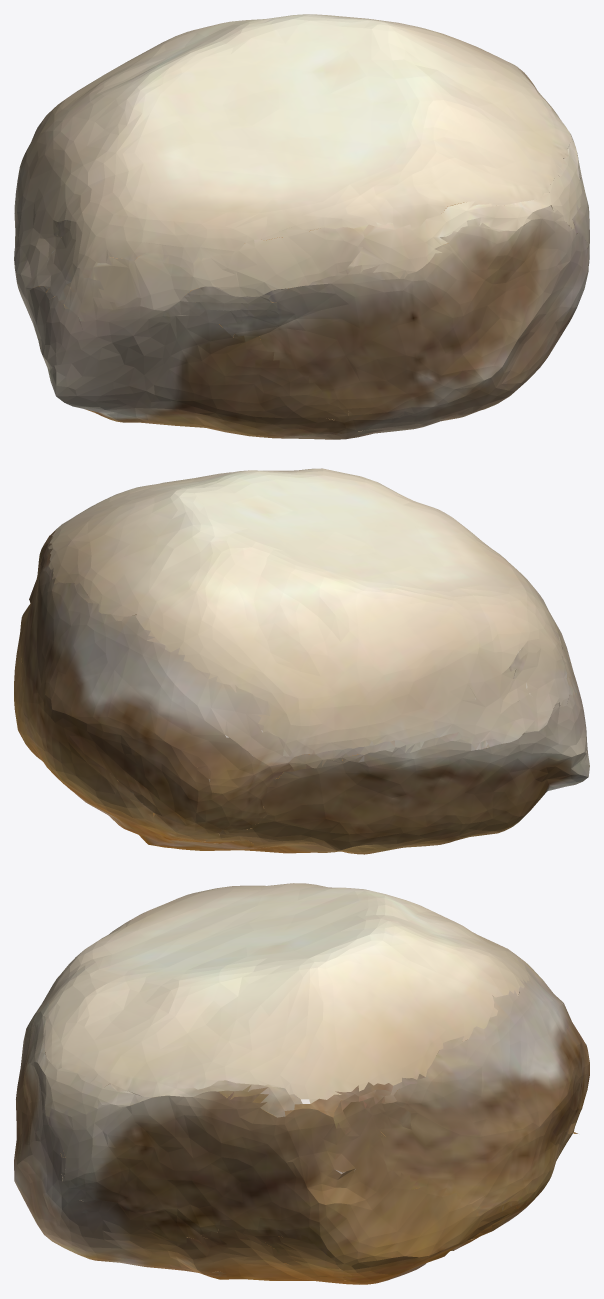
File: pfeffernusse.gltf
The picture shows the model from 3 angles, top to bottom: view 1: azimuth 30°, elevation 25°; view 2: azimuth 150°, elevation 25°; view 3: azimuth 270°, elevation 25°; orthographic projection. The views are drawn at different scales.
Parts seen in each view (by area): view 1: model_New Qlone_20221216_194734049; view 2: model_New Qlone_20221216_194734049; view 3: model_New Qlone_20221216_194734049.
Part boxes in pixels (x1,y1,x2,y2): model_New Qlone_20221216_194734049: [14, 14, 589, 439]; model_New Qlone_20221216_194734049: [14, 468, 589, 854]; model_New Qlone_20221216_194734049: [14, 883, 589, 1284].
Size of the model in its own units: 4.34 by 2.25 by 4.01.
Materials: 1 (1 with a texture image).
